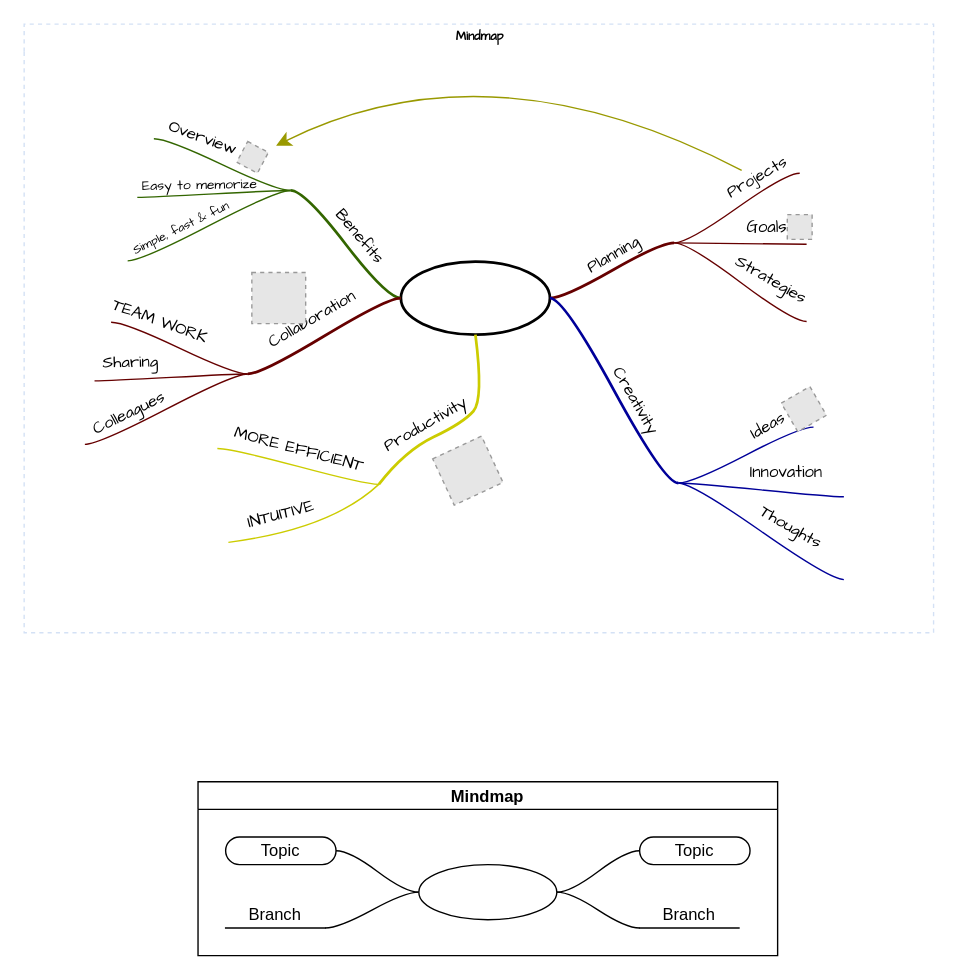
Image size: 958x980. Some labels were removed from this diagram. Grey dashed boxes stand in for pictures. Each missing label, with the centre of its shape:
Central Idea: [487,891]
MIND MAPPING: [475,297]
